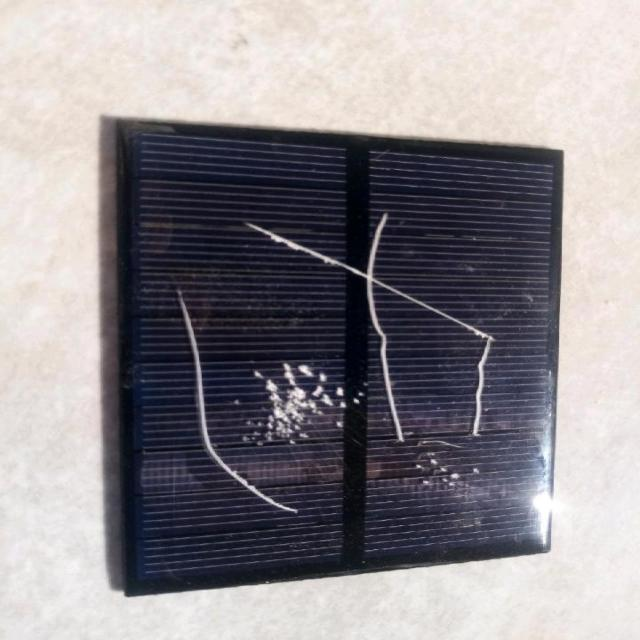faulty: (109, 113, 569, 587)
